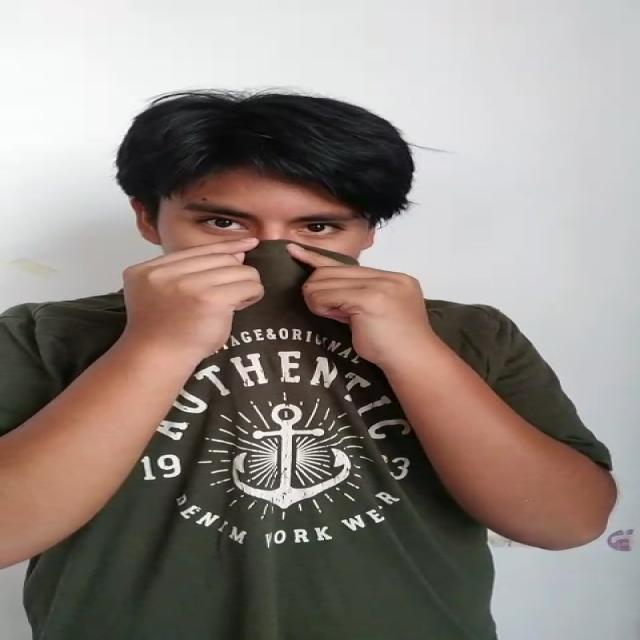8_ropa_rostro: (72, 237, 483, 382)
